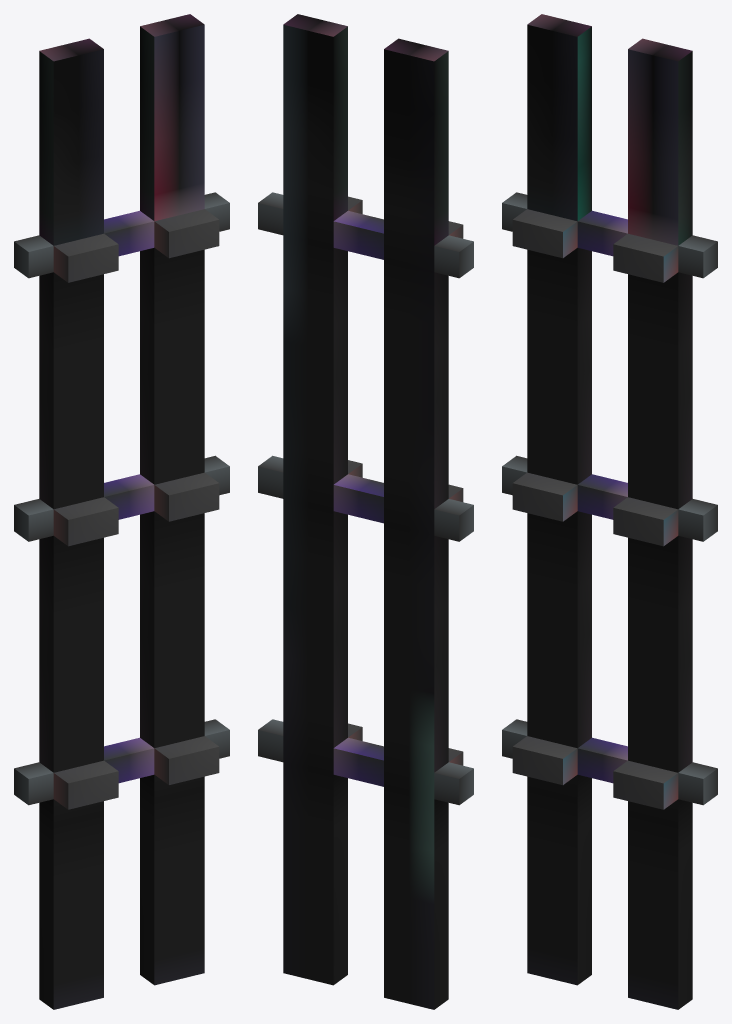
The model's file is Cable_K_00.fbx.
The picture shows the model from 3 angles, left to right: view 1: azimuth 30°, elevation 25°; view 2: azimuth 150°, elevation 25°; view 3: azimuth 330°, elevation 25°; orthographic projection.
Visible parts, largest first — view 1: Cable_K_00; view 2: Cable_K_00; view 3: Cable_K_00.
Part boxes in pixels (x1,y1,x2,y2): Cable_K_00: (14, 14, 229, 1009); Cable_K_00: (258, 14, 473, 1009); Cable_K_00: (502, 14, 717, 1009).
Size of the model in its own units: 40 by 180 by 10.
